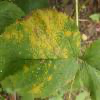Raspberry leaf: (0, 8, 83, 96)
